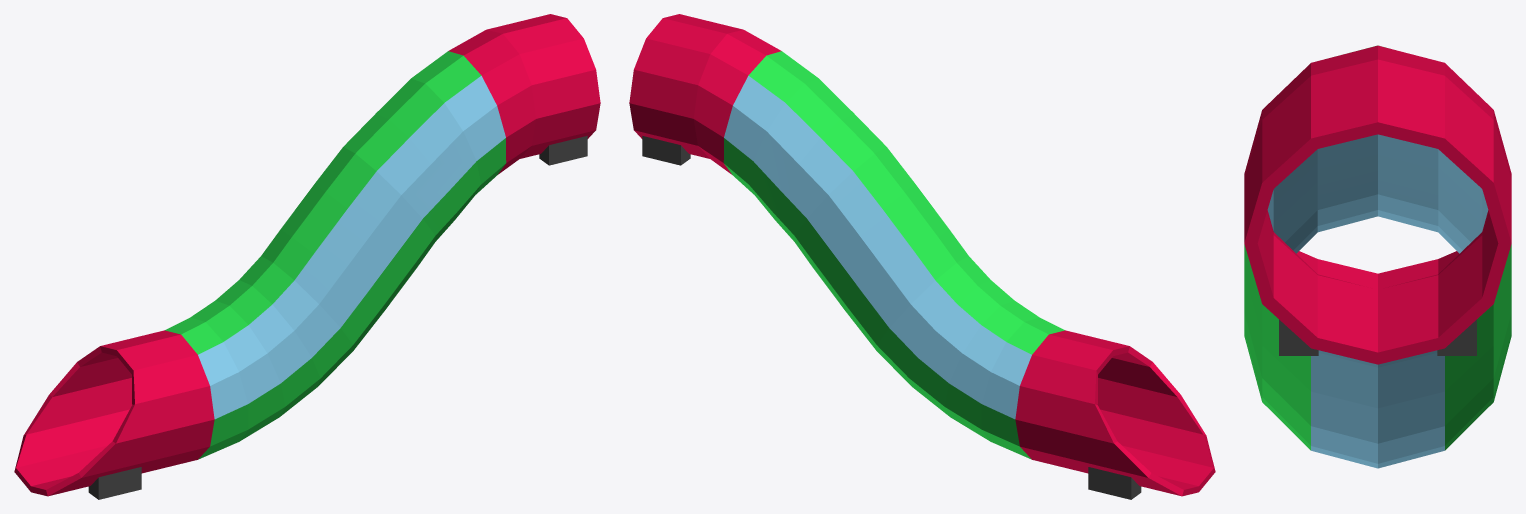
The model's file is Slide 1.fbx.
The picture shows the model from 3 angles, left to right: view 1: azimuth 30°, elevation 25°; view 2: azimuth 150°, elevation 25°; view 3: azimuth 270°, elevation 25°; orthographic projection. The views are drawn at different scales.
Visible parts, largest first — view 1: Slide 1; view 2: Slide 1; view 3: Slide 1.
Part boxes in pixels (x1,y1,x2,y2): Slide 1: (14, 14, 600, 499); Slide 1: (629, 14, 1215, 499); Slide 1: (1244, 45, 1511, 468).
Size of the model in its own units: 500 by 306 by 108.
